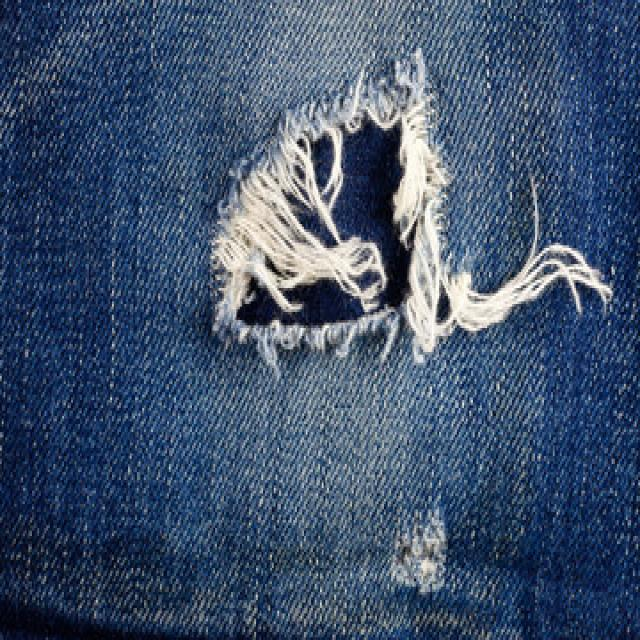Hole: (213, 50, 581, 362), (391, 506, 448, 594)
